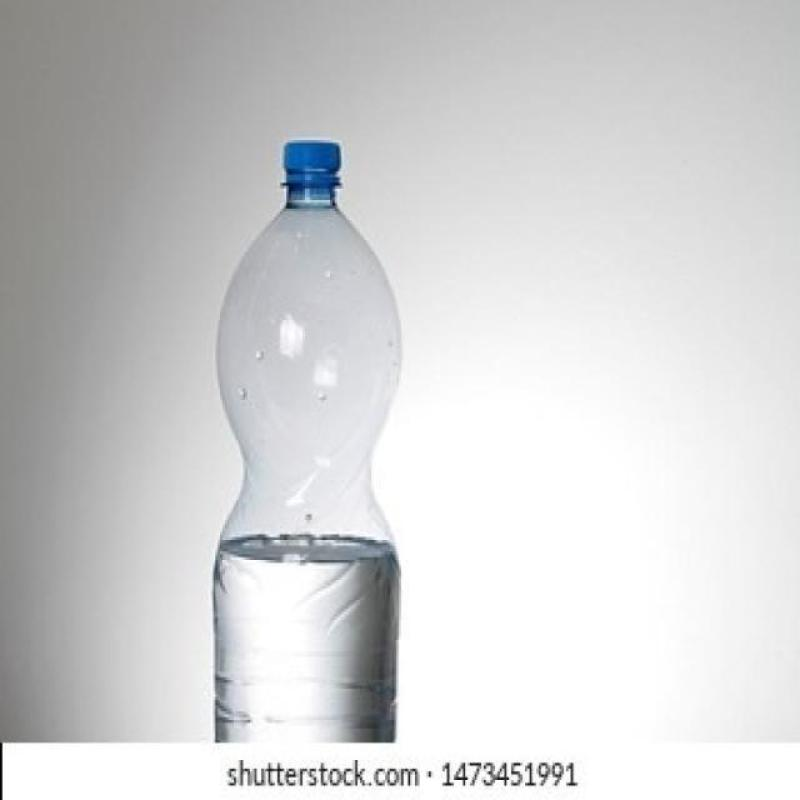botella: (211, 141, 401, 745)
